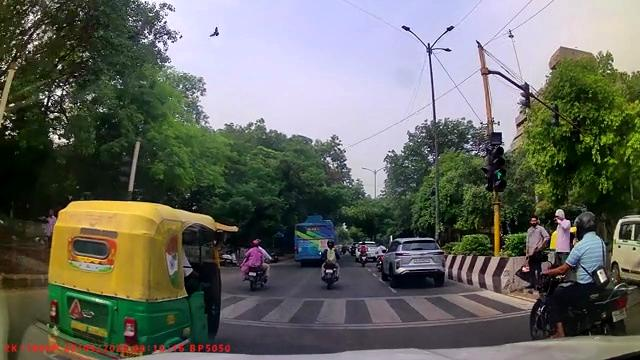motorcycle_with_helmet: (527, 211, 631, 337), (319, 239, 340, 290)
passenger_without_helmet: (241, 238, 270, 292)
